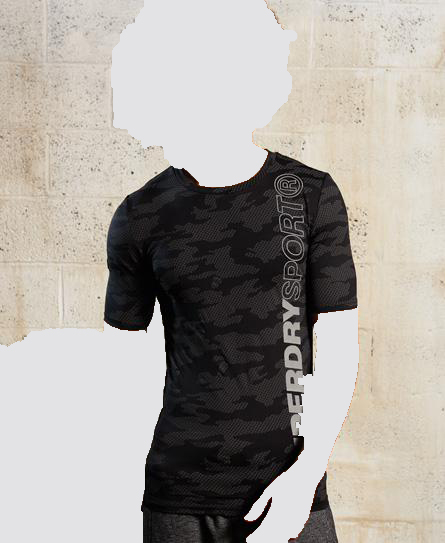teeshirt: (99, 149, 369, 514)
